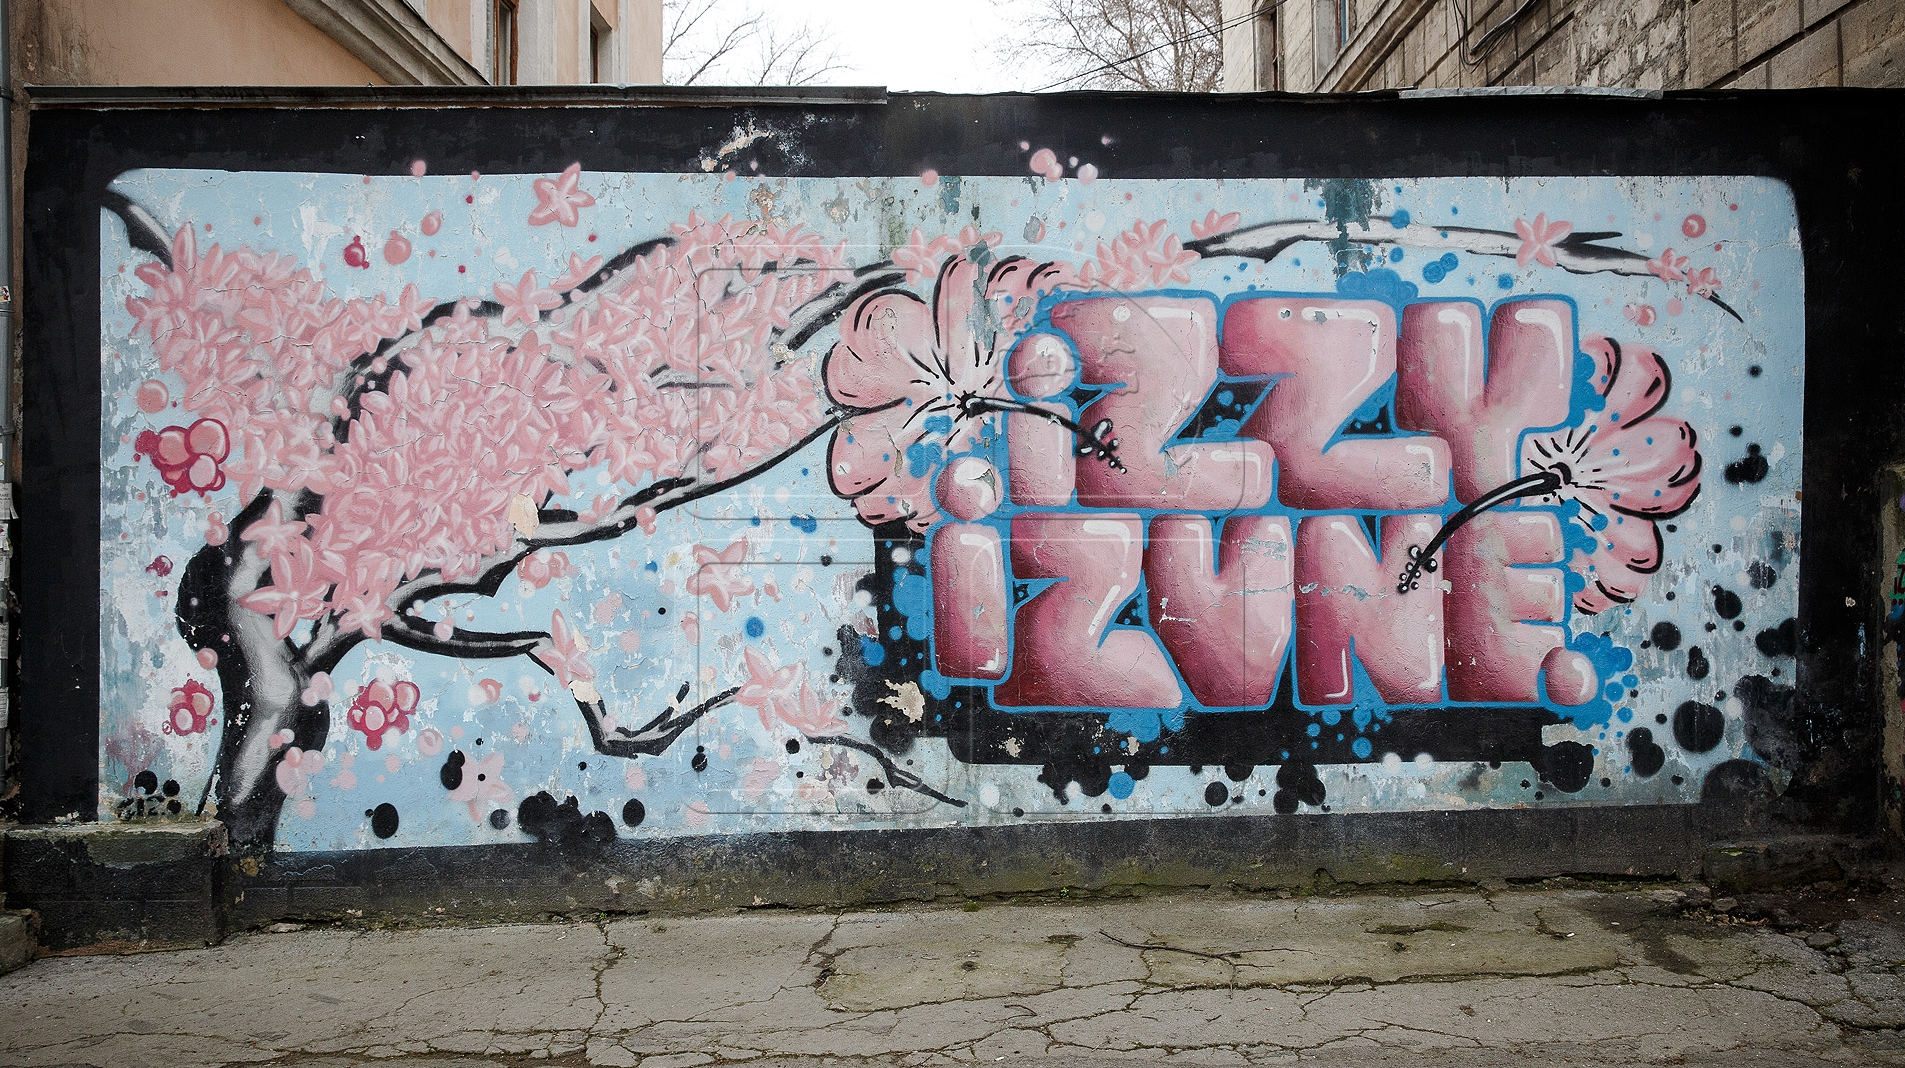graphite: (102, 185, 871, 832), (973, 294, 1615, 743), (1196, 198, 1755, 305)
